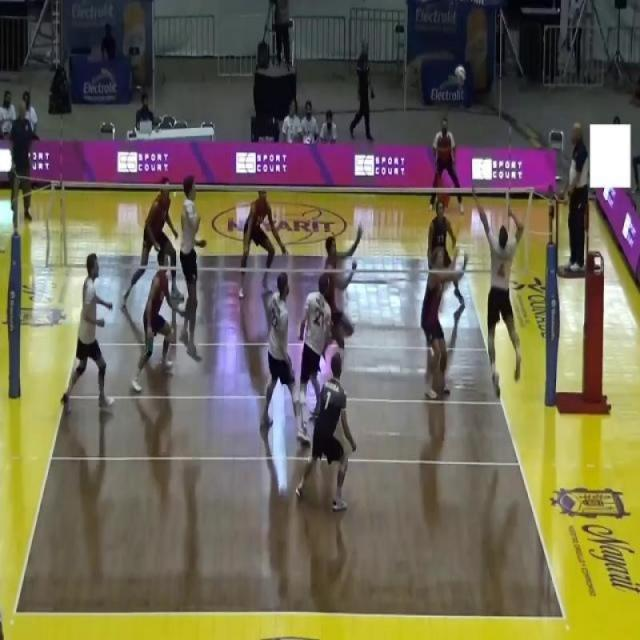volleyball: (454, 64, 467, 87)
